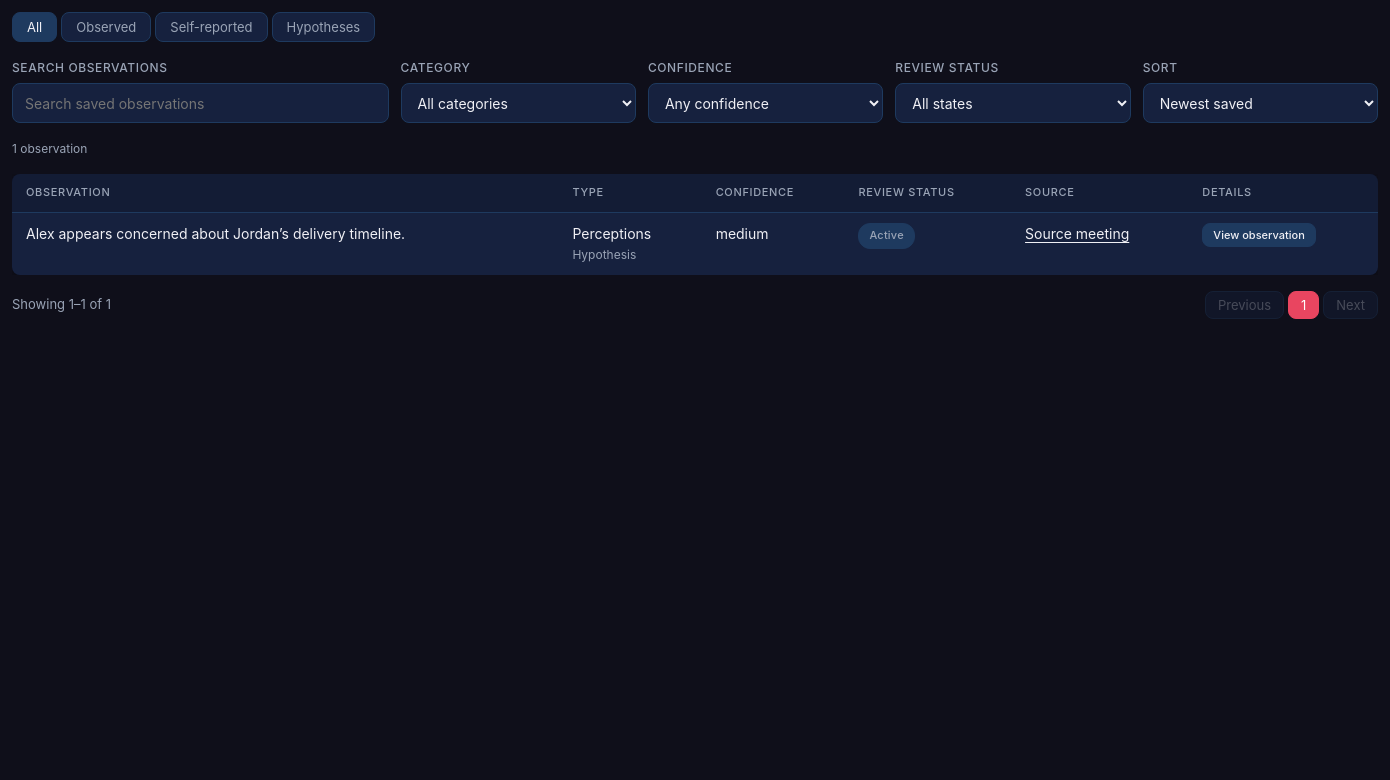
reads a bounded page, labels hypotheses and known targets, and discloses exact source evidence
This screenshot has width=1390, height=780.
Expected: the text "Alex appears concerned about Jordan’s delivery timeline." is shown, 26,225 -> 405,242
Expected: the text "Hypothesis" is shown, 572,247 -> 636,262
Click the button "View observation". click: (1259, 235)
box: 1202,223 -> 1316,247
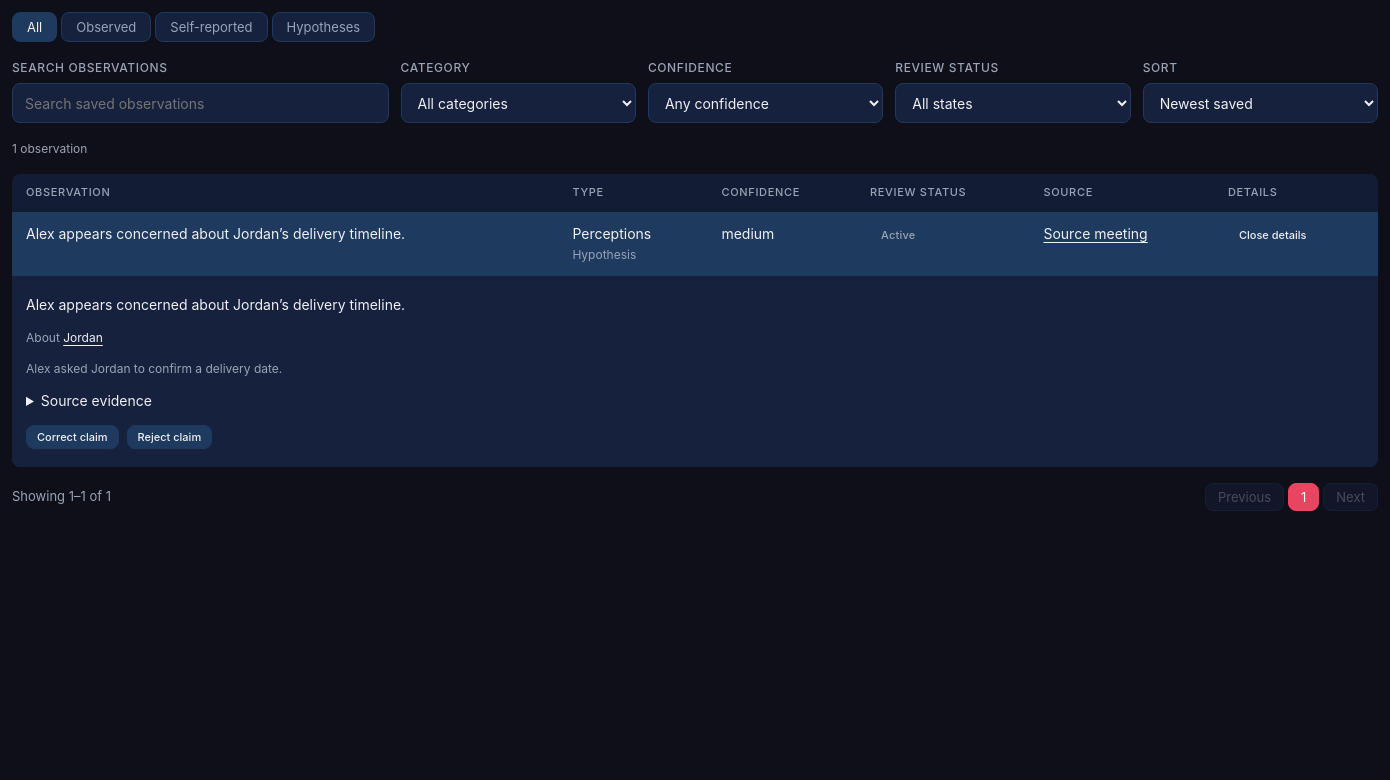
Expected: the text "Jordan, can you confirm the delivery date?" is not shown
Click the heading "Source evidence". click: (96, 401)
box: 41,392 -> 152,409
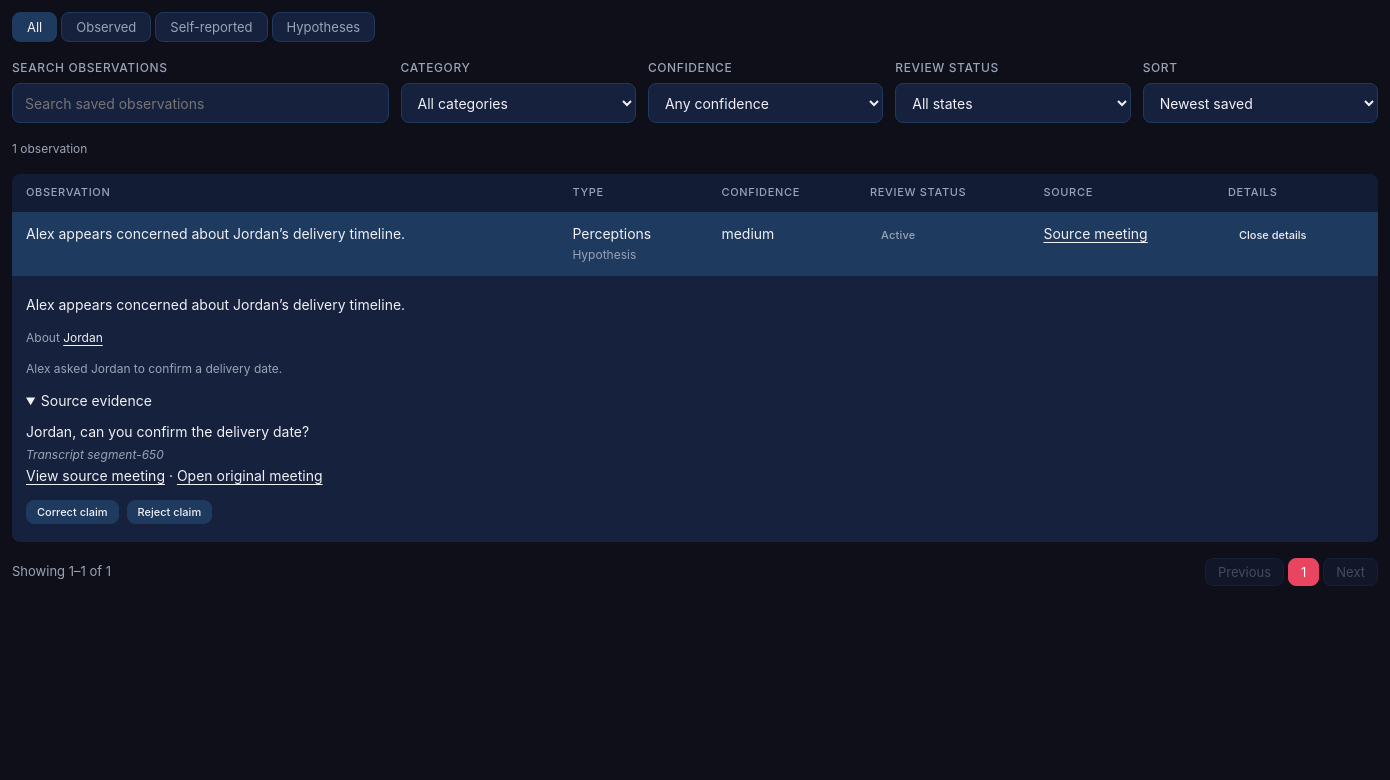
Expected: the text "Jordan, can you confirm the delivery date?" is shown, 26,423 -> 309,440
